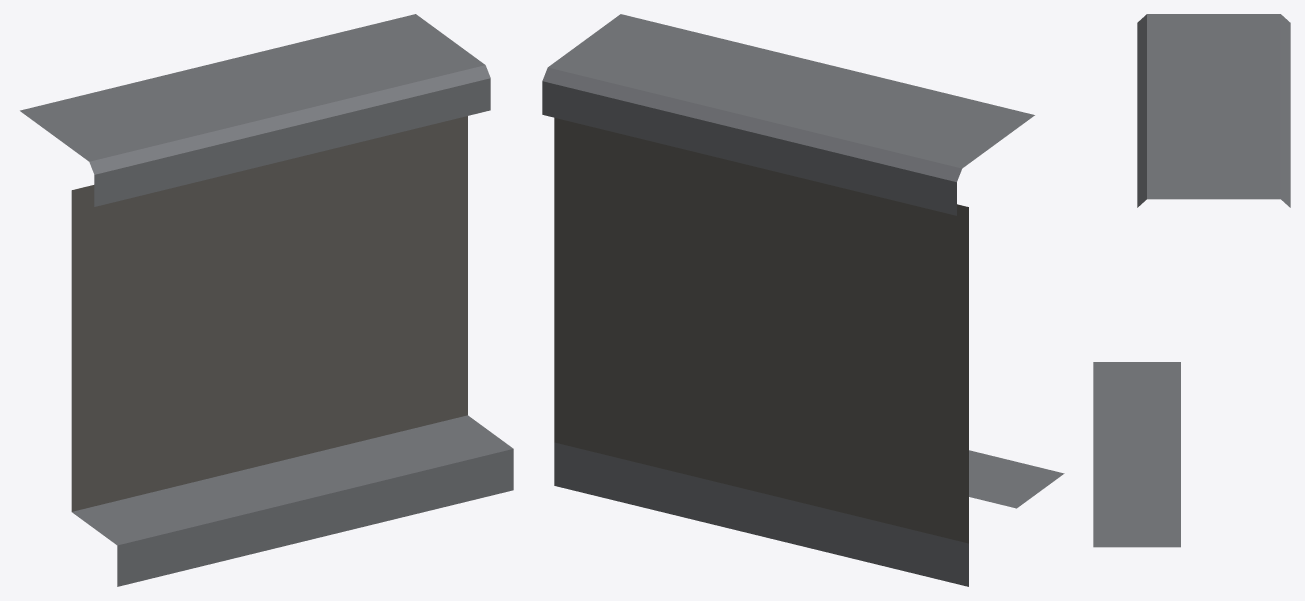
File: SM_Roof_1m.gltf
The picture shows the model from 3 angles, left to right: view 1: azimuth 30°, elevation 25°; view 2: azimuth 150°, elevation 25°; view 3: azimuth 270°, elevation 25°; orthographic projection. The views are drawn at different scales.
Visible parts, largest first — view 1: SM_Roof_1m; view 2: SM_Roof_1m; view 3: SM_Roof_1m.
Part boxes in pixels (bbox=[...]): SM_Roof_1m: bbox=[20, 14, 513, 586]; SM_Roof_1m: bbox=[542, 14, 1064, 586]; SM_Roof_1m: bbox=[1093, 14, 1290, 547].
Size of the model in its own units: 1 by 0.9755 by 0.45.
Materials: 1 (1 with a texture image).
